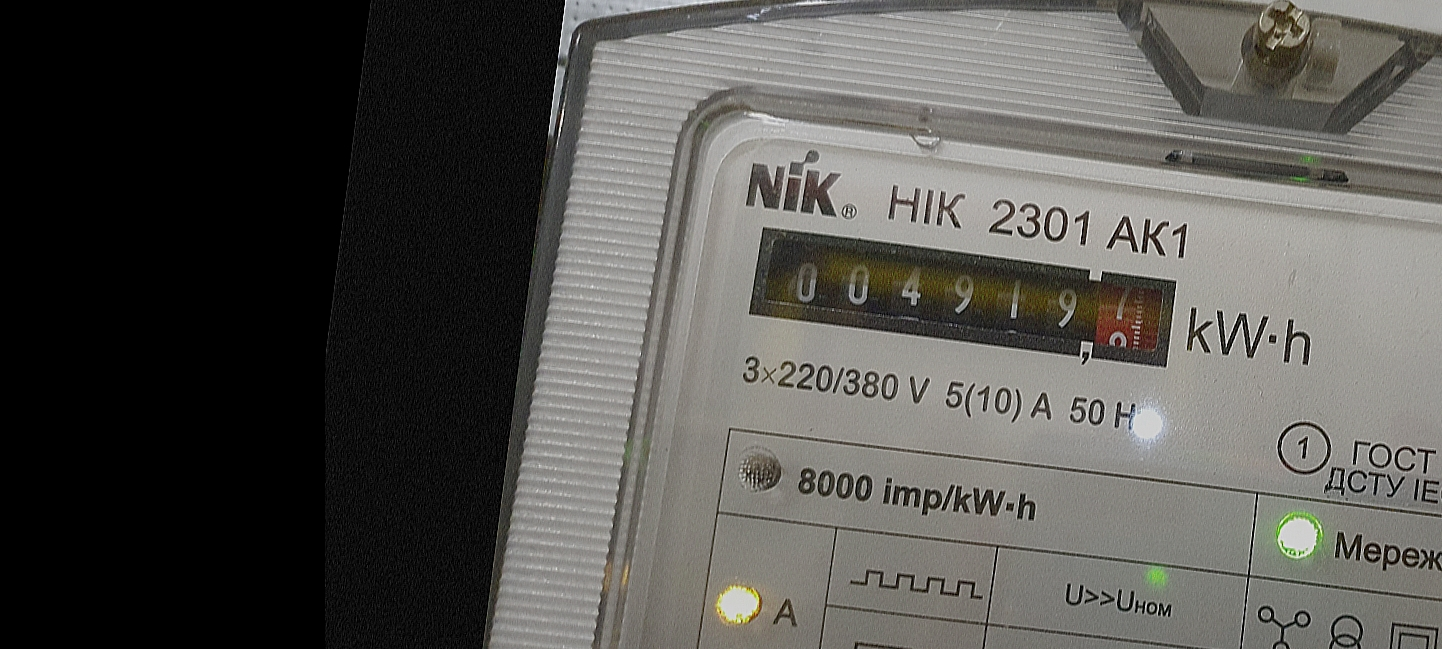0: (842, 259, 874, 307), (791, 257, 820, 304)
1: (1004, 274, 1024, 321)
4: (895, 261, 925, 307)
7: (1106, 280, 1134, 322)
9: (1051, 283, 1080, 332), (948, 271, 976, 317)
screen: (734, 211, 1195, 387)
